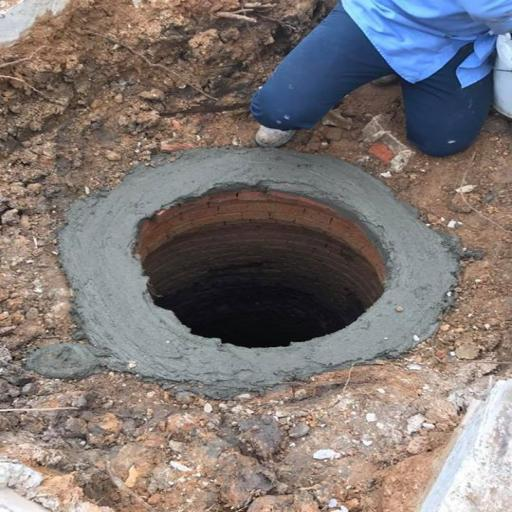entrance: (137, 191, 384, 347)
laptop: (252, 0, 511, 156)
